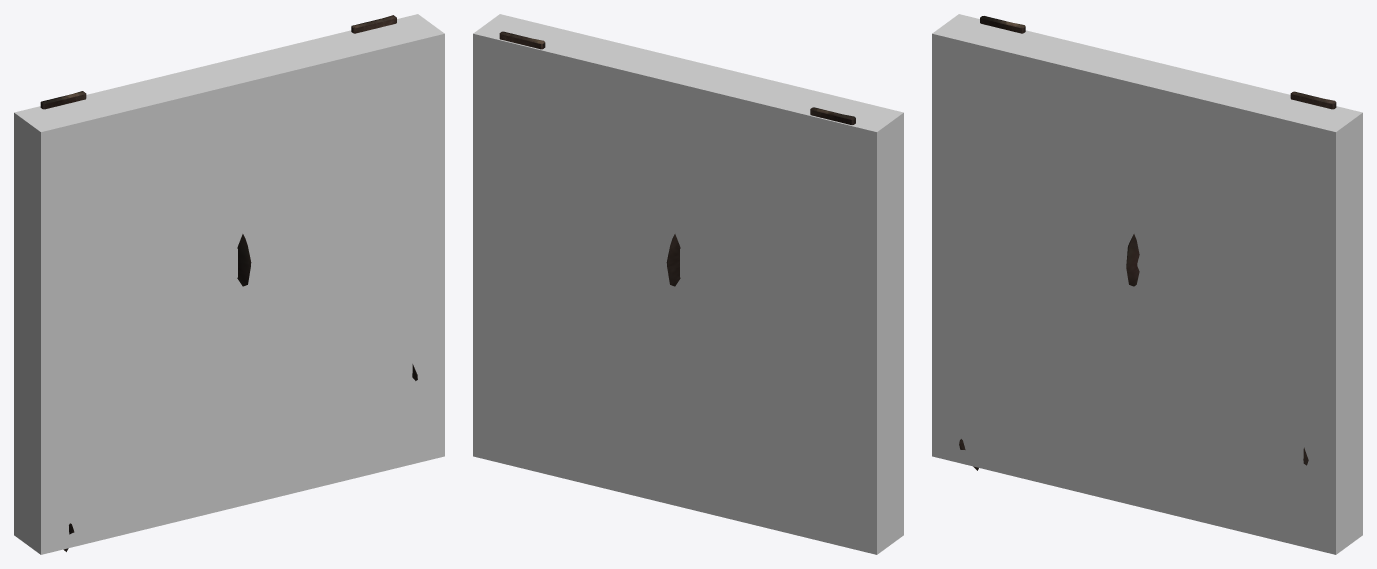
Rendered from chains_shackles_v1_lite.glb.
3 renders of one model, left to right at view 1: azimuth 30°, elevation 25°; view 2: azimuth 150°, elevation 25°; view 3: azimuth 330°, elevation 25°, orthographic.
Visible parts, largest first — view 1: col_chains, chains; view 2: col_chains, chains; view 3: col_chains, chains.
Boxes of the visible parts, bbox=[...] form: col_chains: bbox=[14, 14, 444, 554]; chains: bbox=[40, 15, 417, 551]; col_chains: bbox=[473, 14, 903, 554]; chains: bbox=[499, 31, 855, 286]; col_chains: bbox=[932, 14, 1362, 554]; chains: bbox=[959, 16, 1336, 470].
Bounding box in the file's own units: 1.3 × 1.36 × 0.2376.
1 material, 1 textured.
